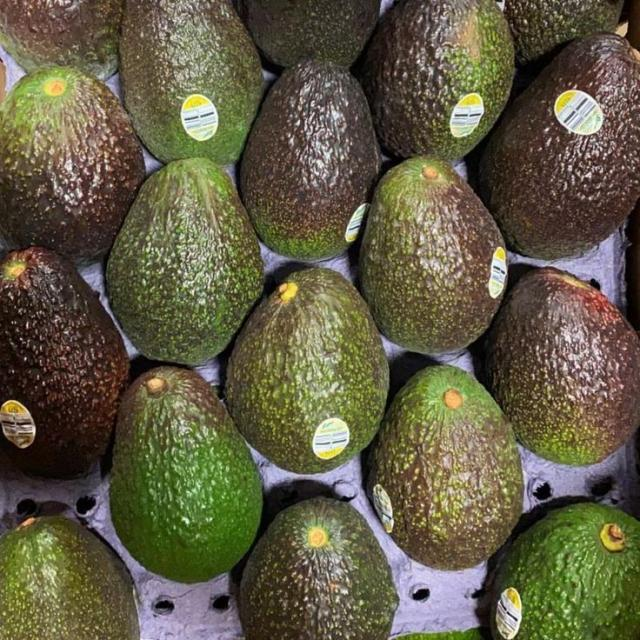avocado: (481, 34, 639, 259), (227, 268, 388, 473), (111, 367, 262, 582), (107, 159, 263, 364), (368, 366, 523, 570), (487, 267, 639, 466), (0, 248, 128, 476), (360, 157, 506, 353), (240, 60, 379, 259), (0, 68, 144, 259), (363, 0, 513, 159), (120, 0, 262, 165), (240, 498, 398, 639), (491, 503, 639, 639), (0, 517, 139, 639), (0, 0, 123, 79), (239, 0, 380, 66), (505, 0, 623, 63), (626, 202, 639, 330), (394, 628, 489, 639), (626, 0, 639, 49)
